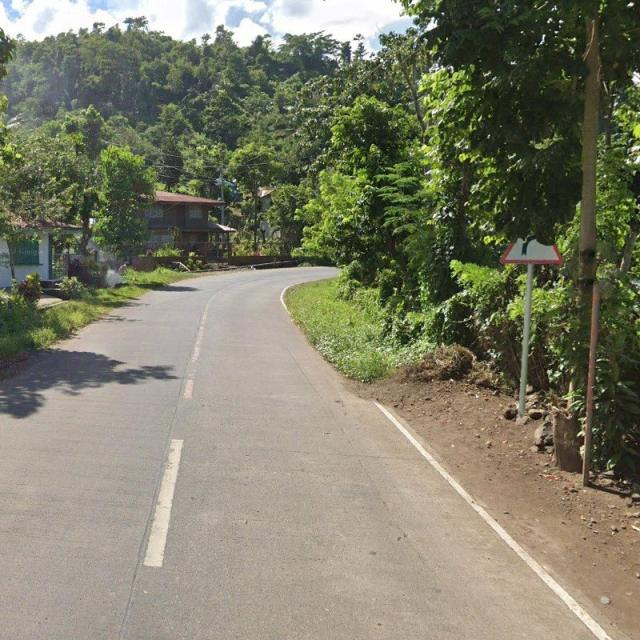warn_right_curve: (501, 205, 563, 264)
